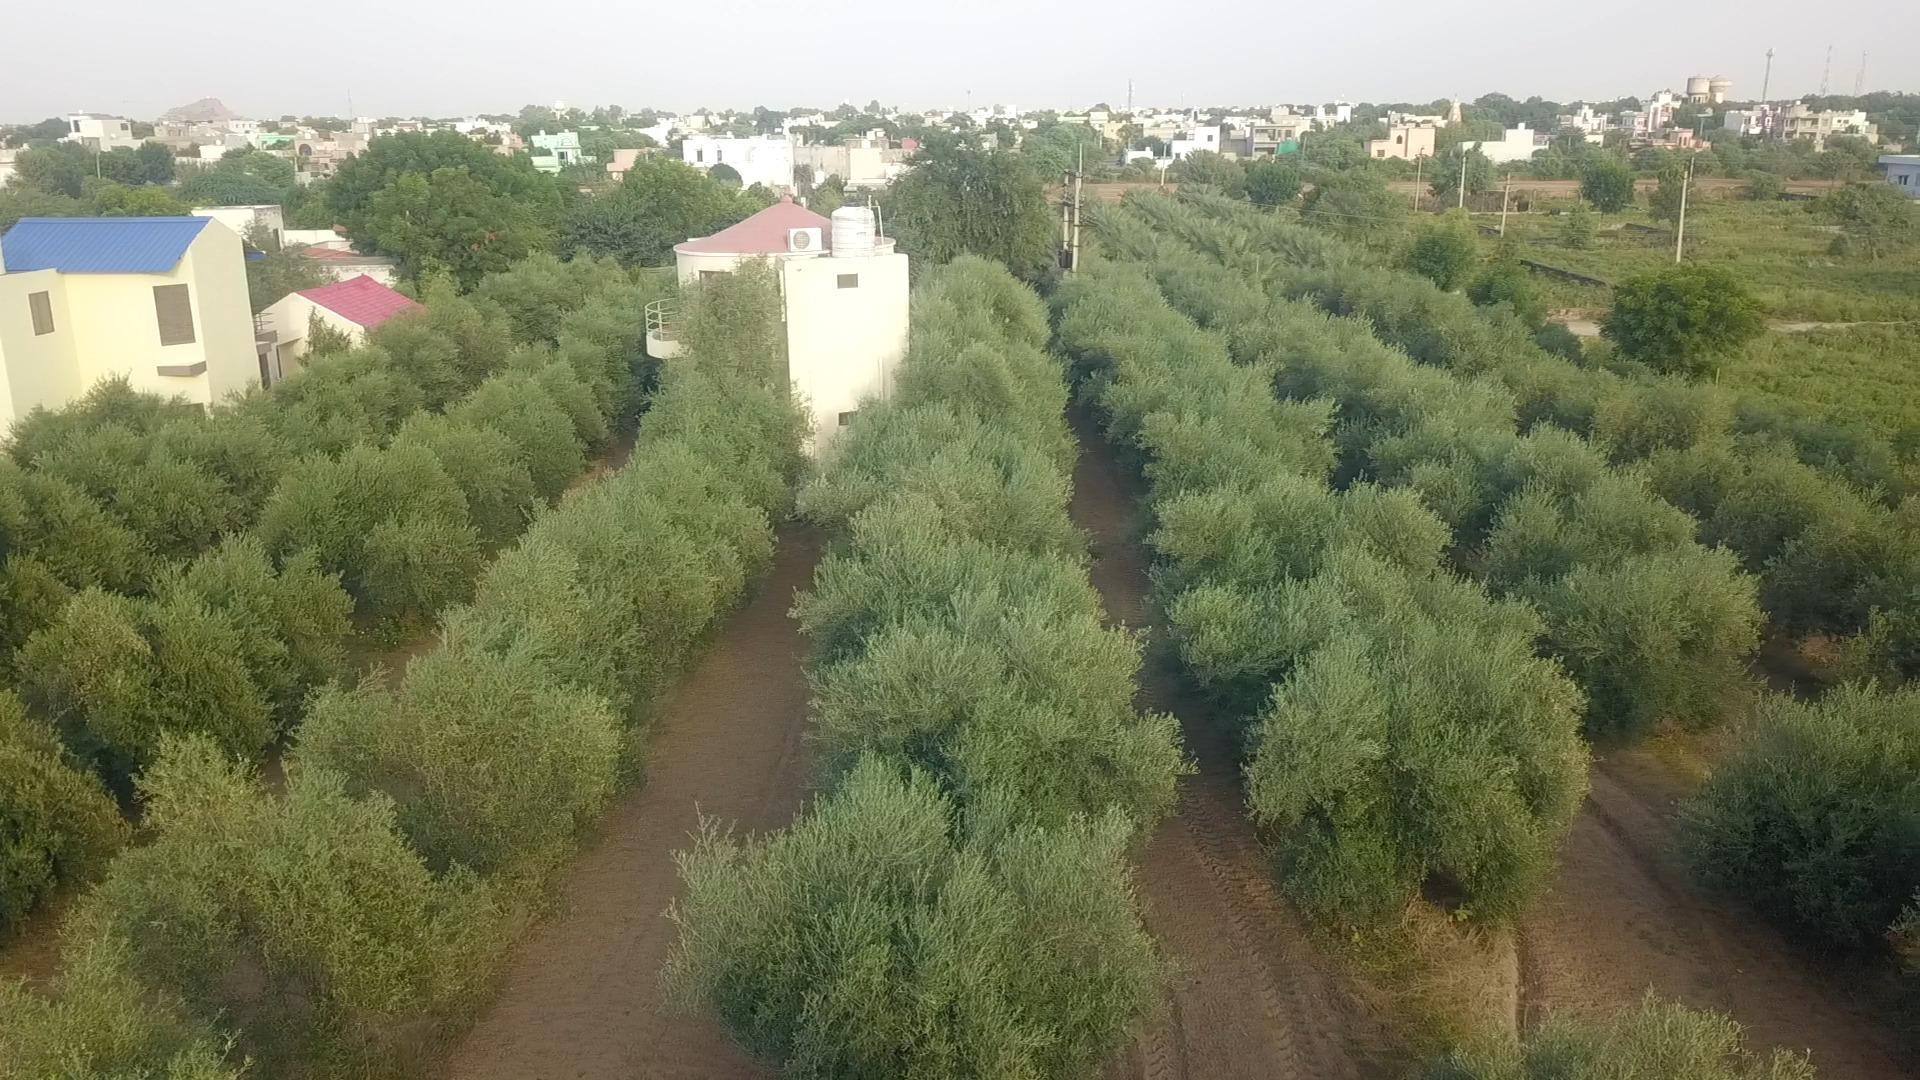canopy: (30, 272, 806, 1079), (0, 255, 654, 930), (662, 256, 1192, 1079), (1056, 262, 1588, 927), (1149, 251, 1764, 744)
road: (1067, 405, 1385, 1079), (444, 526, 825, 1079), (1509, 736, 1919, 1079)
